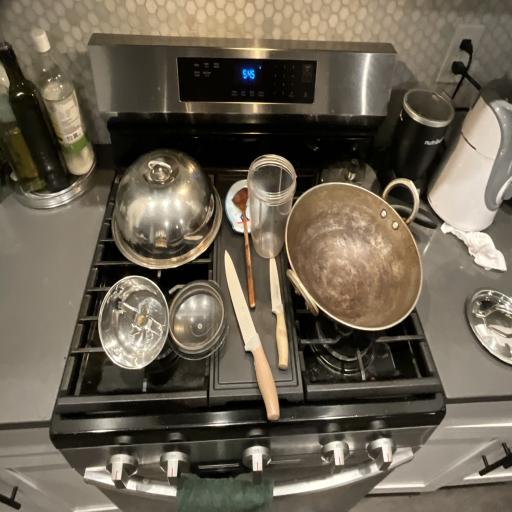Pan: (264, 166, 458, 365)
Stove: (44, 33, 456, 469)
knife: (209, 246, 296, 421), (264, 248, 314, 380)
